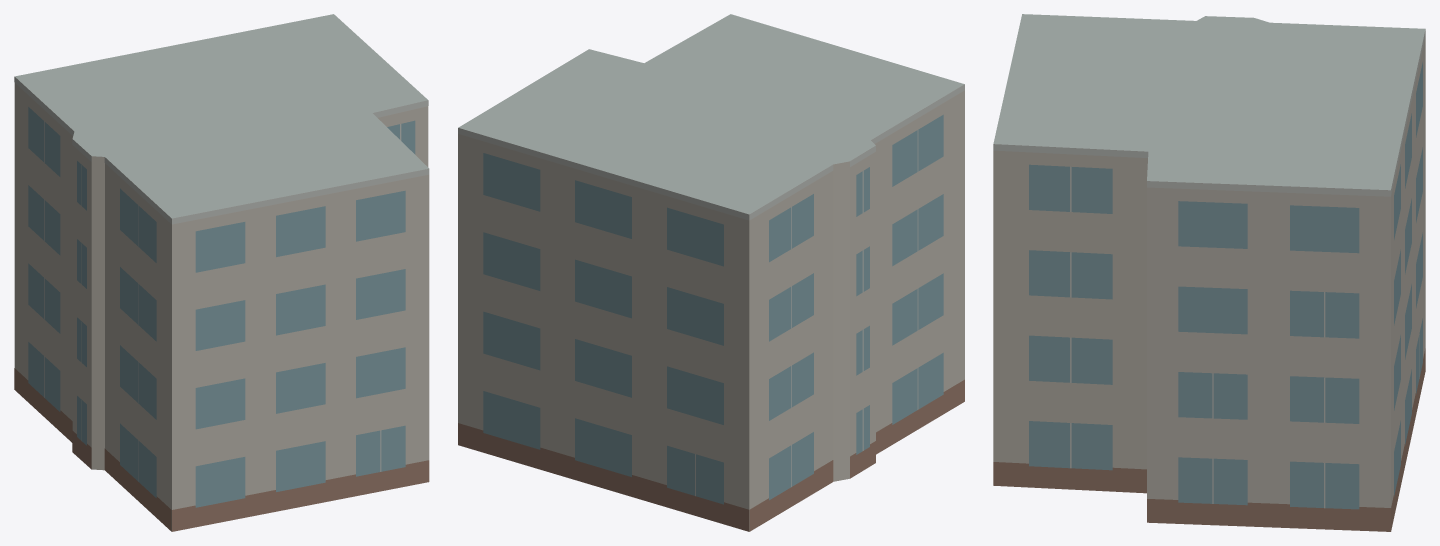
The model's file is survey-upis-32627102.glb.
3 views of the same model, side by side, from view 1: azimuth 30°, elevation 25°; view 2: azimuth 150°, elevation 25°; view 3: azimuth 270°, elevation 25° (orthographic). The views are drawn at different scales.
Visible parts, largest first — view 1: survey-upis-32627102.tmp; view 2: survey-upis-32627102.tmp; view 3: survey-upis-32627102.tmp.
Boxes of the visible parts, x1,y1,x2,y2 form: survey-upis-32627102.tmp: (14, 14, 429, 531); survey-upis-32627102.tmp: (458, 14, 964, 531); survey-upis-32627102.tmp: (993, 14, 1425, 531).
Size of the model in its own units: 14.17 by 12.8 by 14.69.
